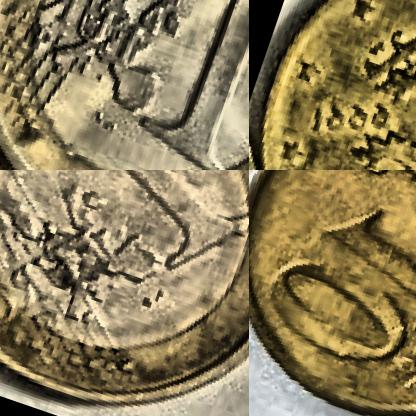coin: (0, 170, 248, 415), (0, 0, 248, 169), (249, 170, 415, 415), (249, 0, 415, 169)
